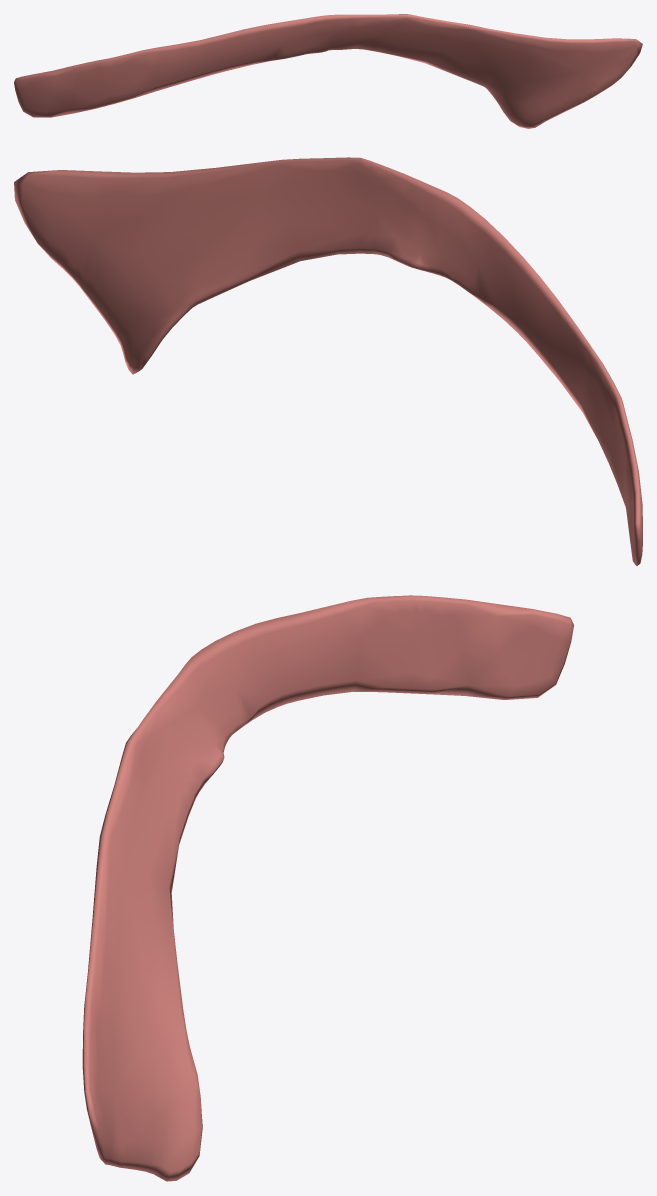
3 views of the same model, one above another, from view 1: azimuth 30°, elevation 25°; view 2: azimuth 150°, elevation 25°; view 3: azimuth 270°, elevation 25° (orthographic). The views are drawn at different scales.
Parts seen in each view (by area): view 1: ZA_f0f200ff6d6eff7c; view 2: ZA_f0f200ff6d6eff7c; view 3: ZA_f0f200ff6d6eff7c.
Boxes of the visible parts, <box> form: ZA_f0f200ff6d6eff7c: <box>14,14,642,128</box>; ZA_f0f200ff6d6eff7c: <box>14,157,642,565</box>; ZA_f0f200ff6d6eff7c: <box>82,595,573,1181</box>.
Bounding box in the file's own units: 0.0496 × 0.015 × 0.0208.
